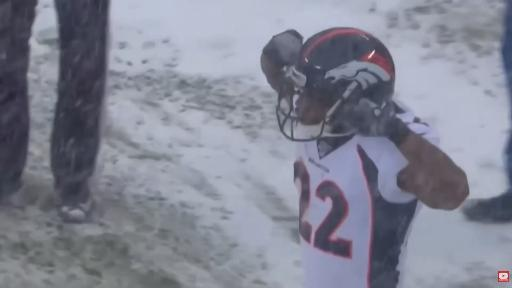Helmet: (276, 28, 394, 141)
Jersey: (295, 135, 421, 287)
Player: (261, 28, 469, 287)
